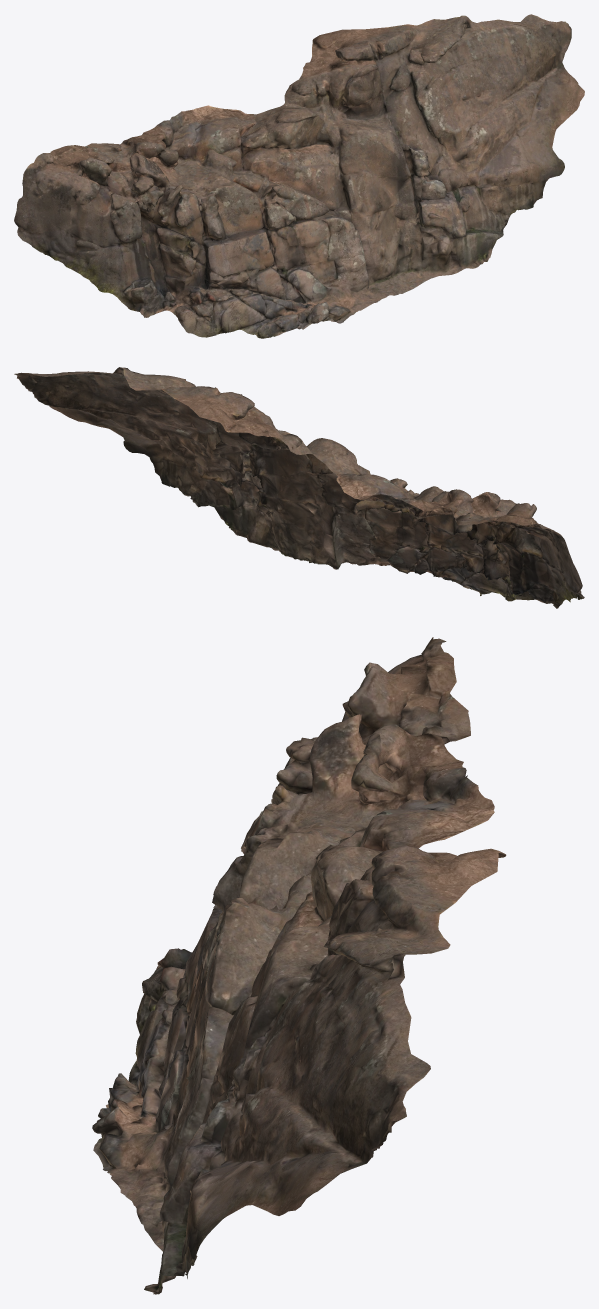
Rendered from namaqualand_cliff_02.glb.
3 views of the same model, one above another, from view 1: azimuth 30°, elevation 25°; view 2: azimuth 150°, elevation 25°; view 3: azimuth 270°, elevation 25° (orthographic). The views are drawn at different scales.
Visible parts, largest first — view 1: drone_rock_02_LOD0; view 2: drone_rock_02_LOD0; view 3: drone_rock_02_LOD0.
Boxes of the visible parts, box(x1,y1,x2,y2) form: drone_rock_02_LOD0: box(14, 14, 584, 338); drone_rock_02_LOD0: box(14, 367, 584, 608); drone_rock_02_LOD0: box(92, 637, 506, 1294).
Bounding box in the file's own units: 20.23 × 7.18 × 6.59.
1 material, 1 textured.
